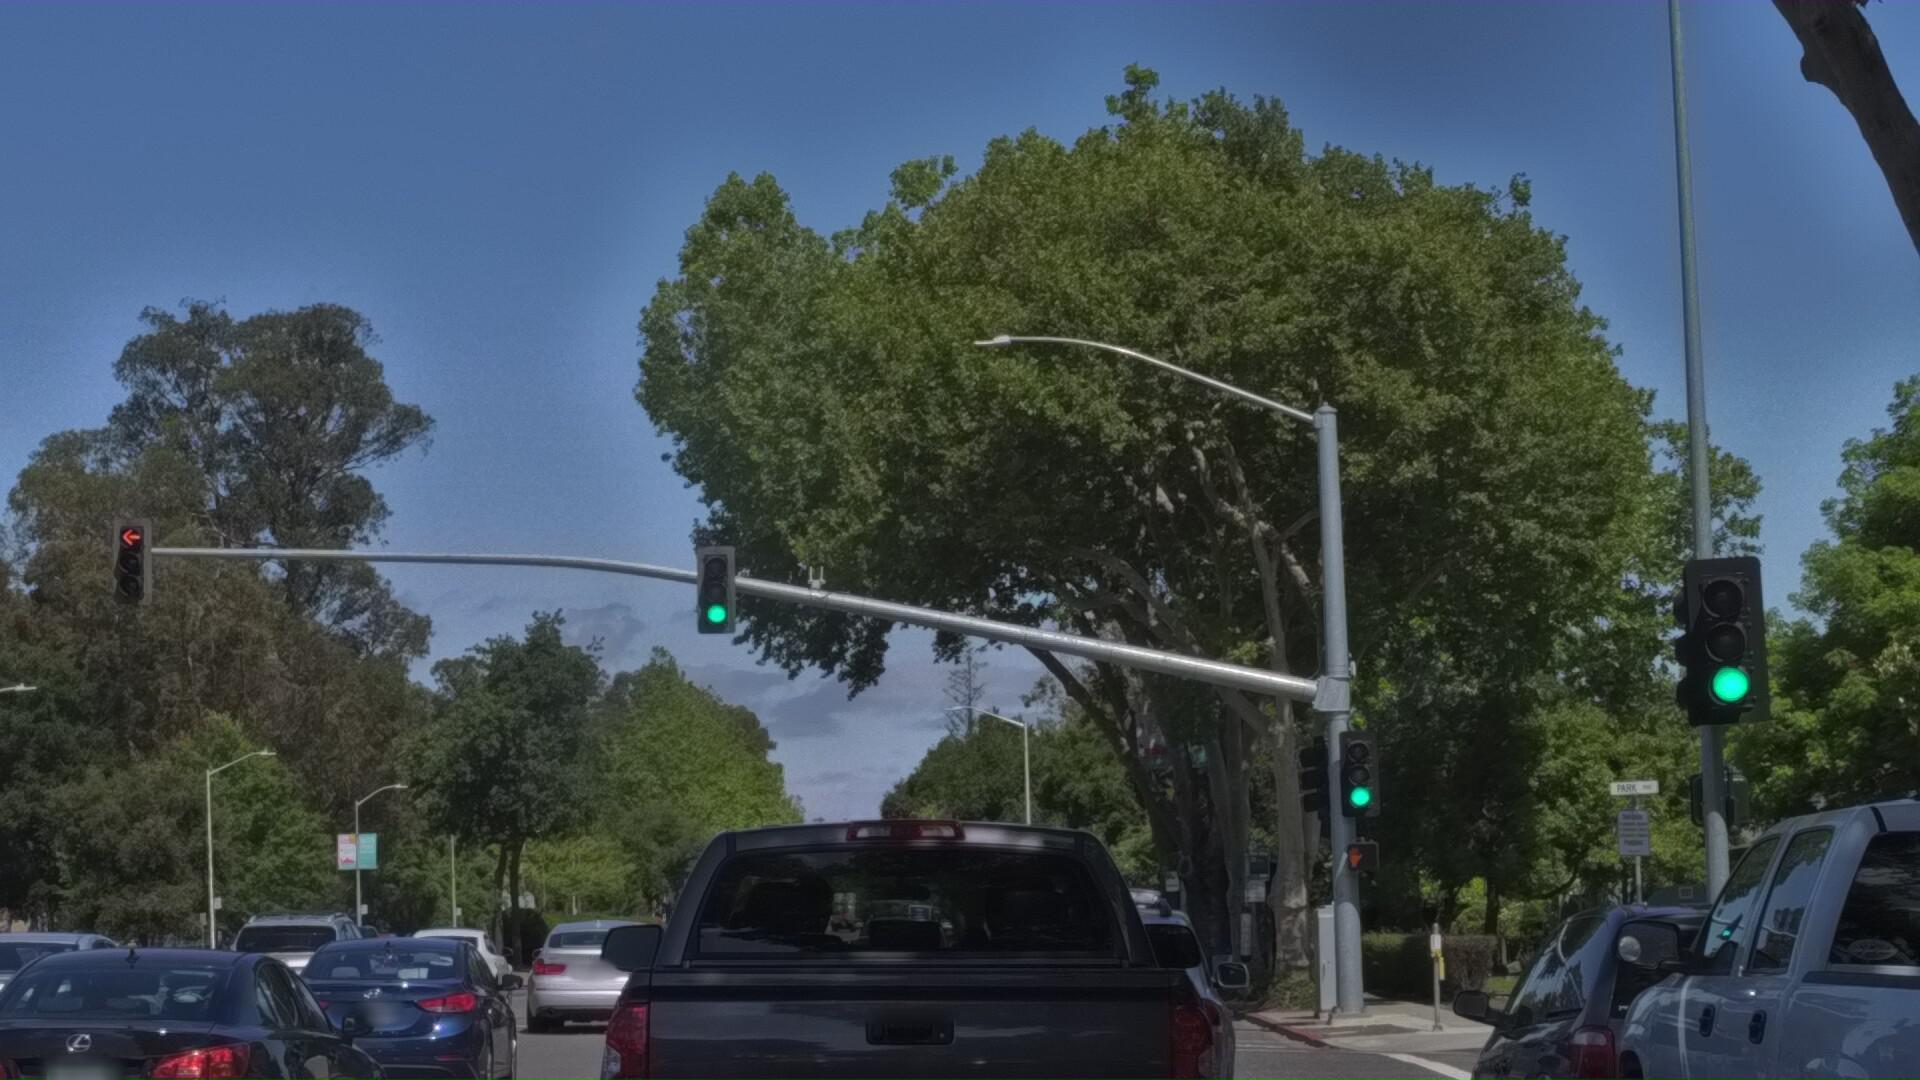car: (524, 712, 1254, 1080), (1513, 738, 1920, 1080), (1396, 885, 1920, 1080), (870, 907, 1185, 1080), (0, 963, 430, 1080), (281, 967, 550, 1080), (0, 945, 185, 1080), (225, 906, 394, 1051), (537, 945, 694, 1080), (401, 949, 516, 1044)
